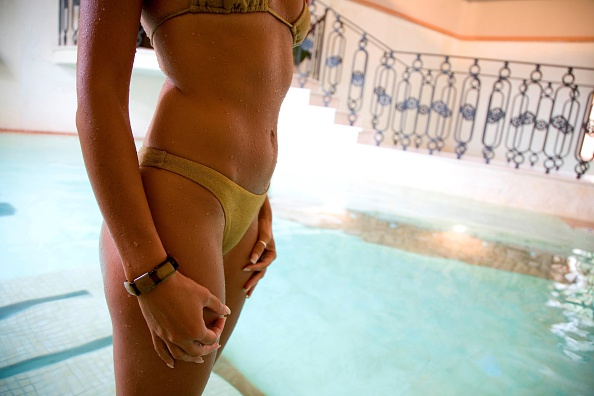em pe: (56, 0, 355, 396)
